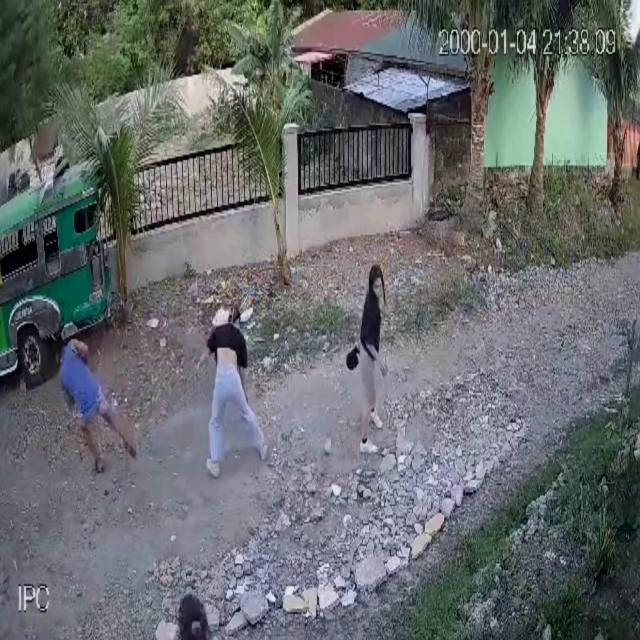running: (52, 315, 145, 482)
walking: (340, 260, 394, 458), (169, 589, 221, 640)
